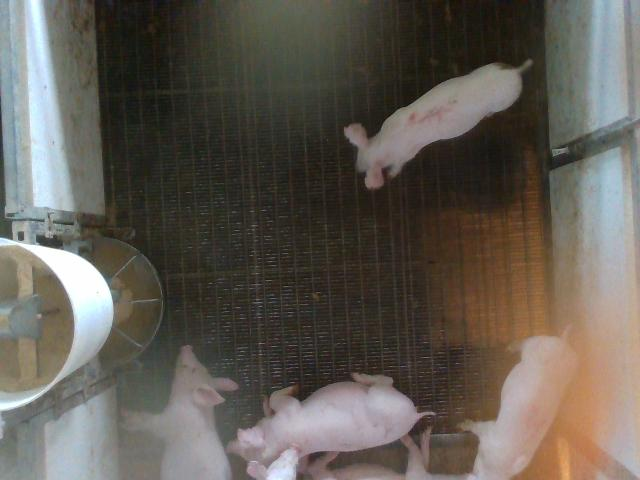pig-4: (461, 339, 578, 479)
pig-5: (345, 63, 528, 188)
